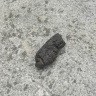Dog: (34, 33, 66, 70)
